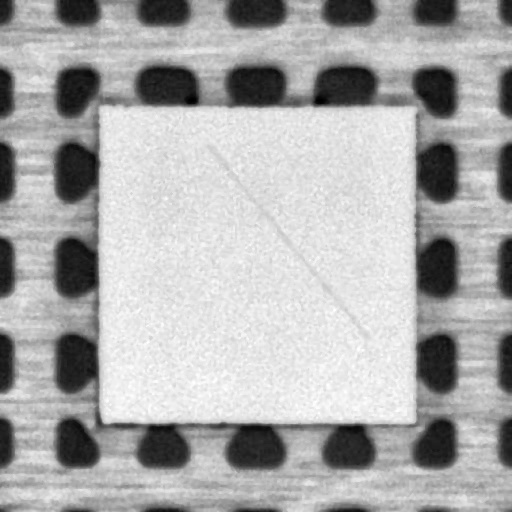DIE_CRACK: (207, 145, 366, 337)
